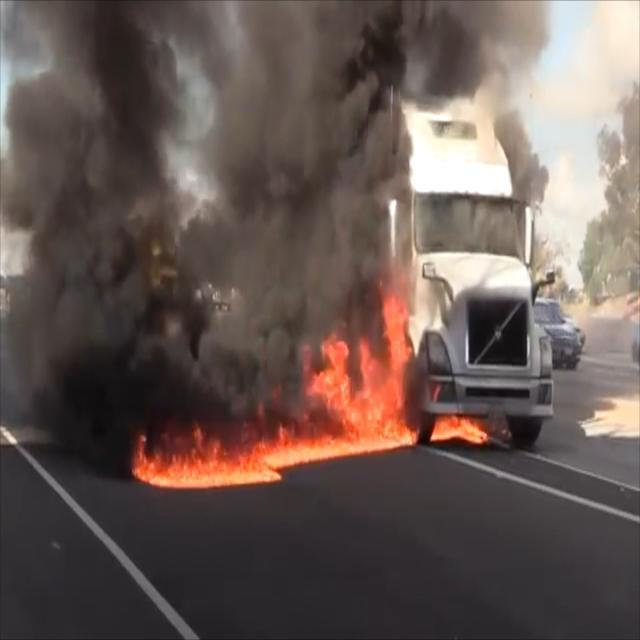fire: (134, 272, 498, 506)
